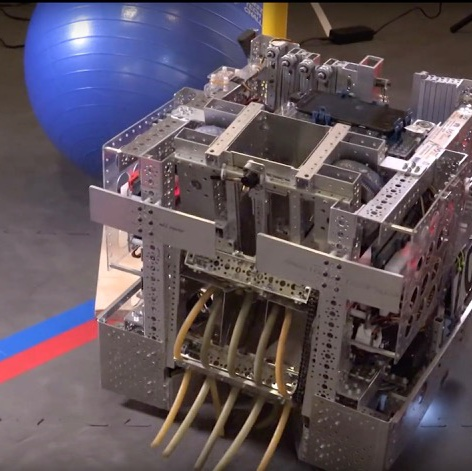robot: (85, 26, 472, 471)
yogaball: (20, 1, 261, 184)
